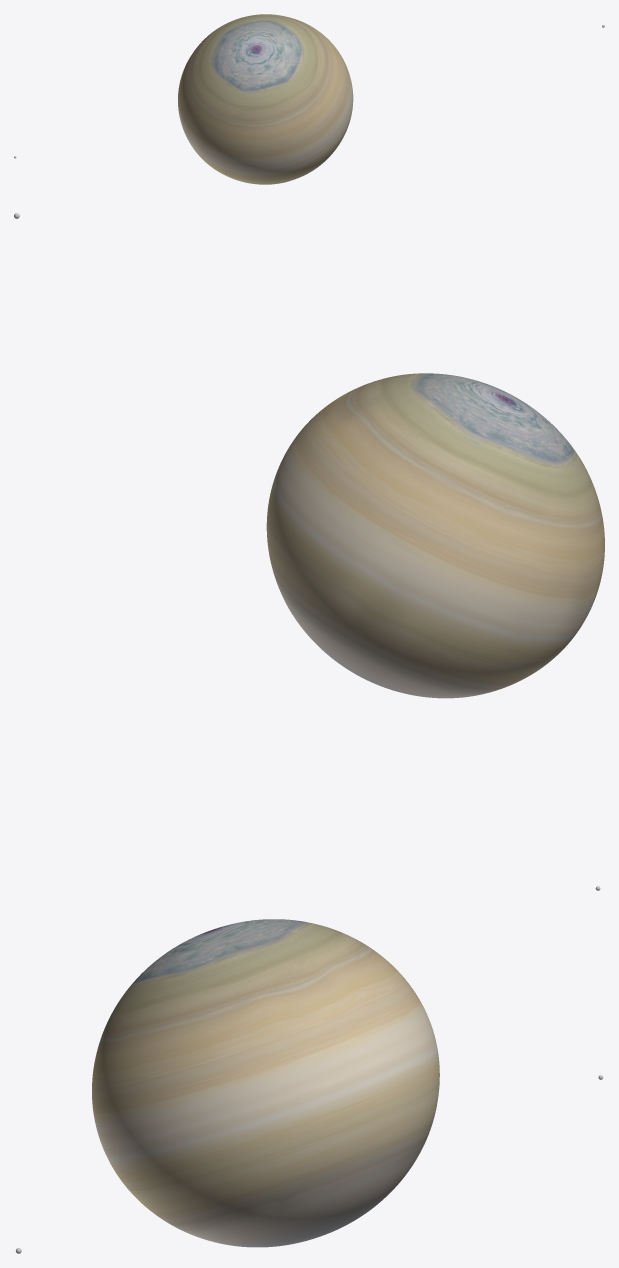
File: saturn.fbx
3 views of the same model, one above another, from view 1: azimuth 30°, elevation 25°; view 2: azimuth 150°, elevation 25°; view 3: azimuth 270°, elevation 25° (orthographic). The views are drawn at different scales.
Visible parts, largest first — view 1: Saturn1_A; view 2: Saturn1_A; view 3: Saturn1_A.
Part boxes in pixels (left/top/right/bottom): Saturn1_A: left=178, top=14, right=353, bottom=184; Saturn1_A: left=266, top=373, right=604, bottom=698; Saturn1_A: left=92, top=919, right=439, bottom=1247.
Size of the model in its own units: 352922 by 117025 by 201690.
